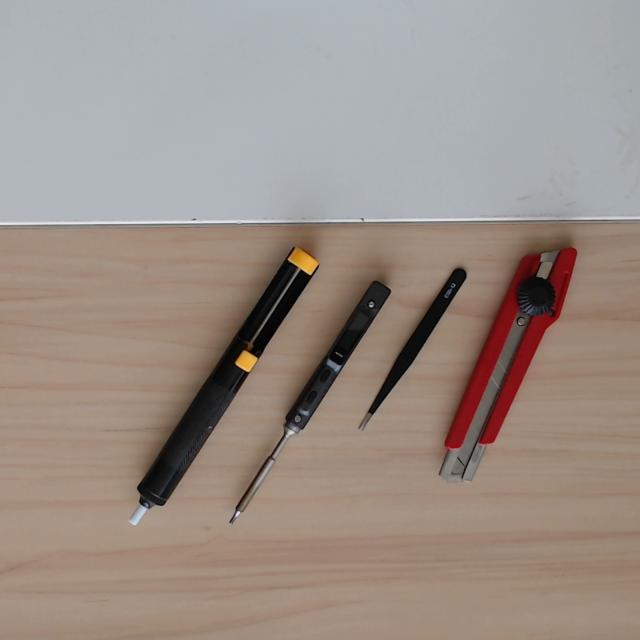Cutter-Besar: (414, 229, 591, 495)
Desoldering-Pump: (117, 245, 323, 536)
Soldering-Iron: (219, 278, 394, 531)
Tweezers: (352, 264, 471, 436)
